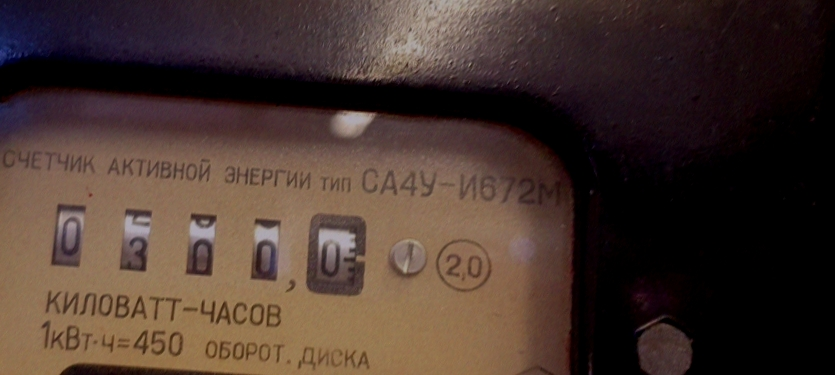0: (252, 237, 280, 282), (58, 213, 84, 260), (317, 237, 344, 281), (189, 236, 215, 278)
3: (125, 233, 150, 273)
screen: (30, 180, 389, 315)
